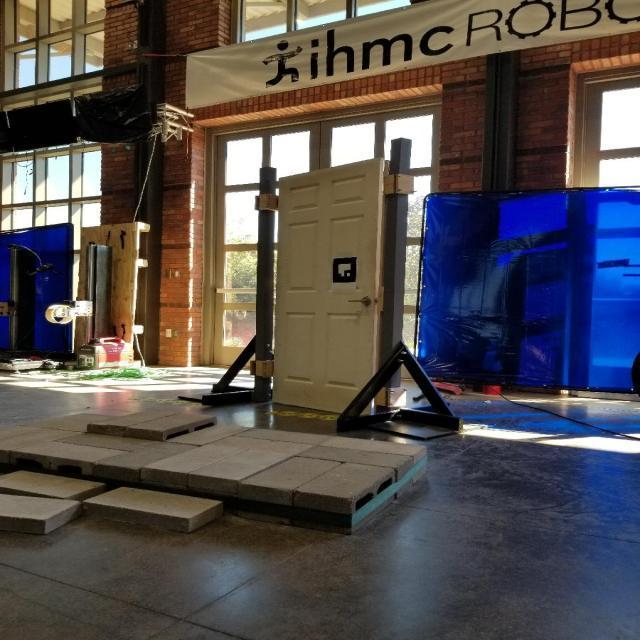door: (267, 155, 385, 422), (344, 292, 374, 310)
